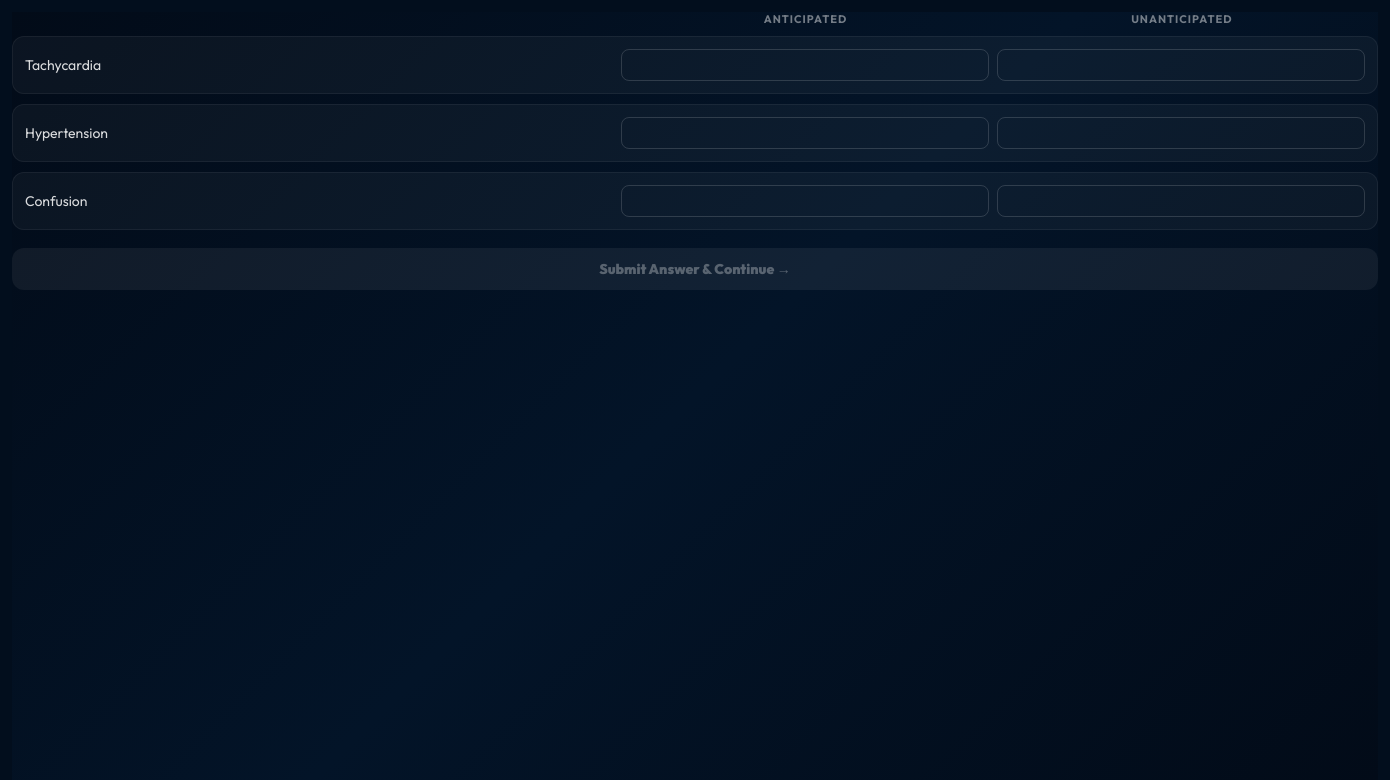
Test: MatrixCard › Submit is disabled until every row is answered
Expected: the button "Submit Answer & Continue →" is disabled, x1=12 y1=248 x2=1378 y2=290
Click the button named "Tachycardia : Unanticipated".
click(1181, 65)  # box x1=997 y1=49 x2=1365 y2=81
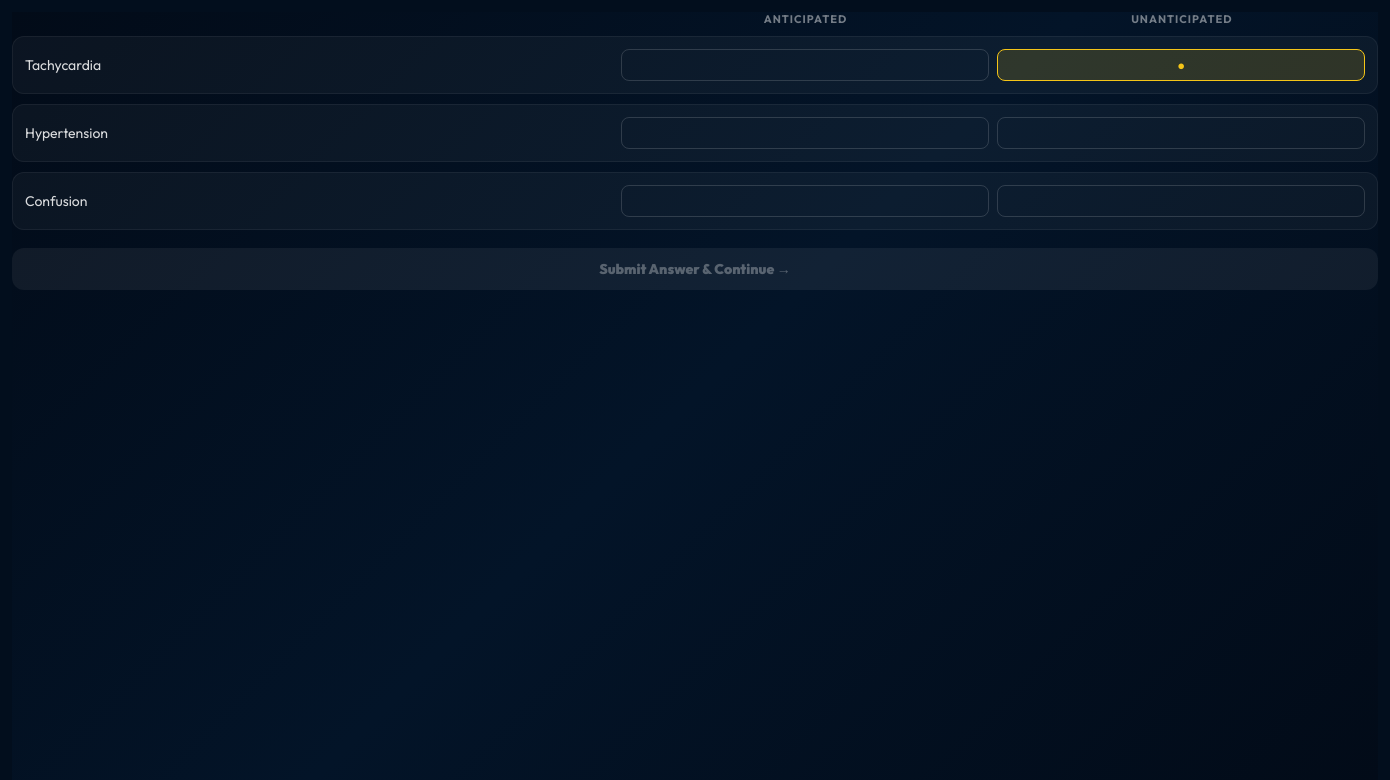
Click the button named "Hypertension : Anticipated".
click(805, 133)  # box x1=621 y1=117 x2=989 y2=149
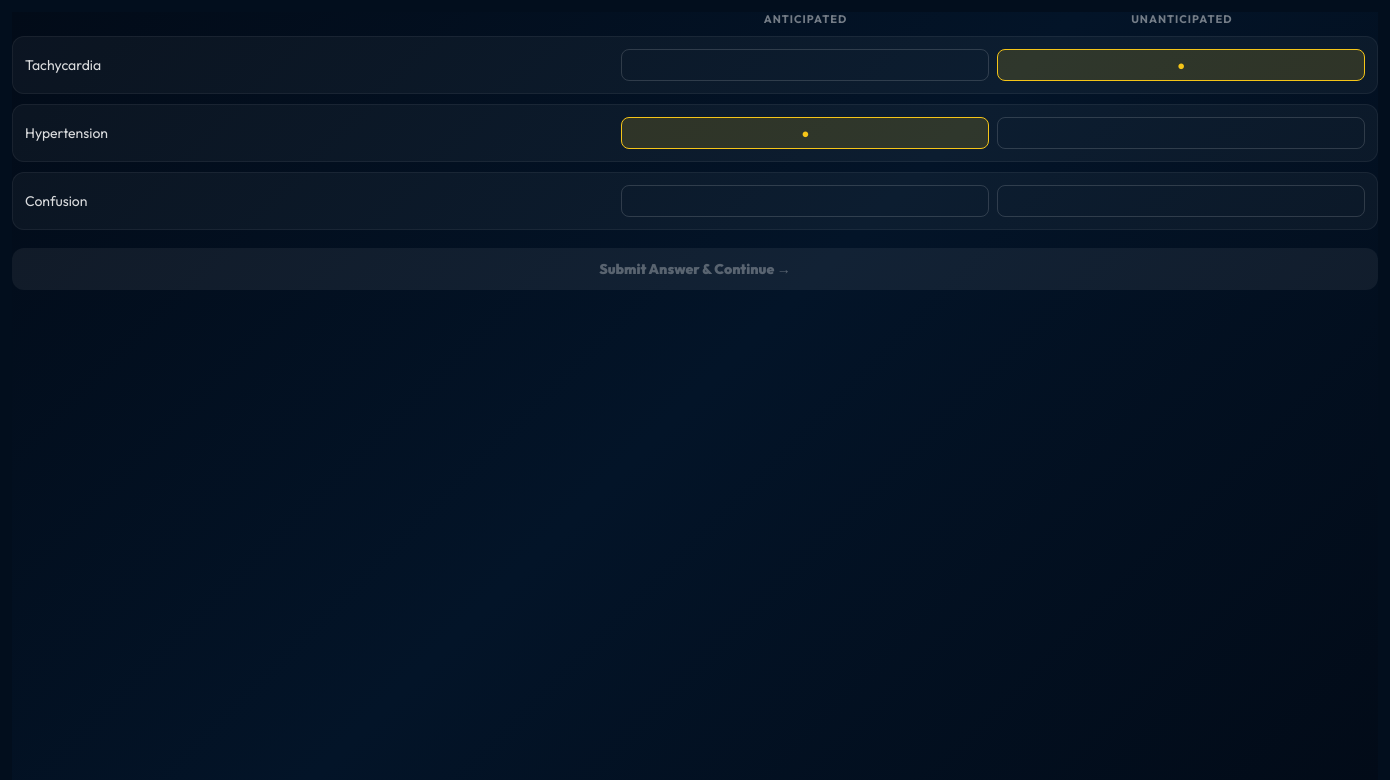
Expected: the button "Submit Answer & Continue →" is disabled, x1=12 y1=248 x2=1378 y2=290
Click the button named "Confusion : Unanticipated".
click(1181, 201)  # box x1=997 y1=185 x2=1365 y2=217
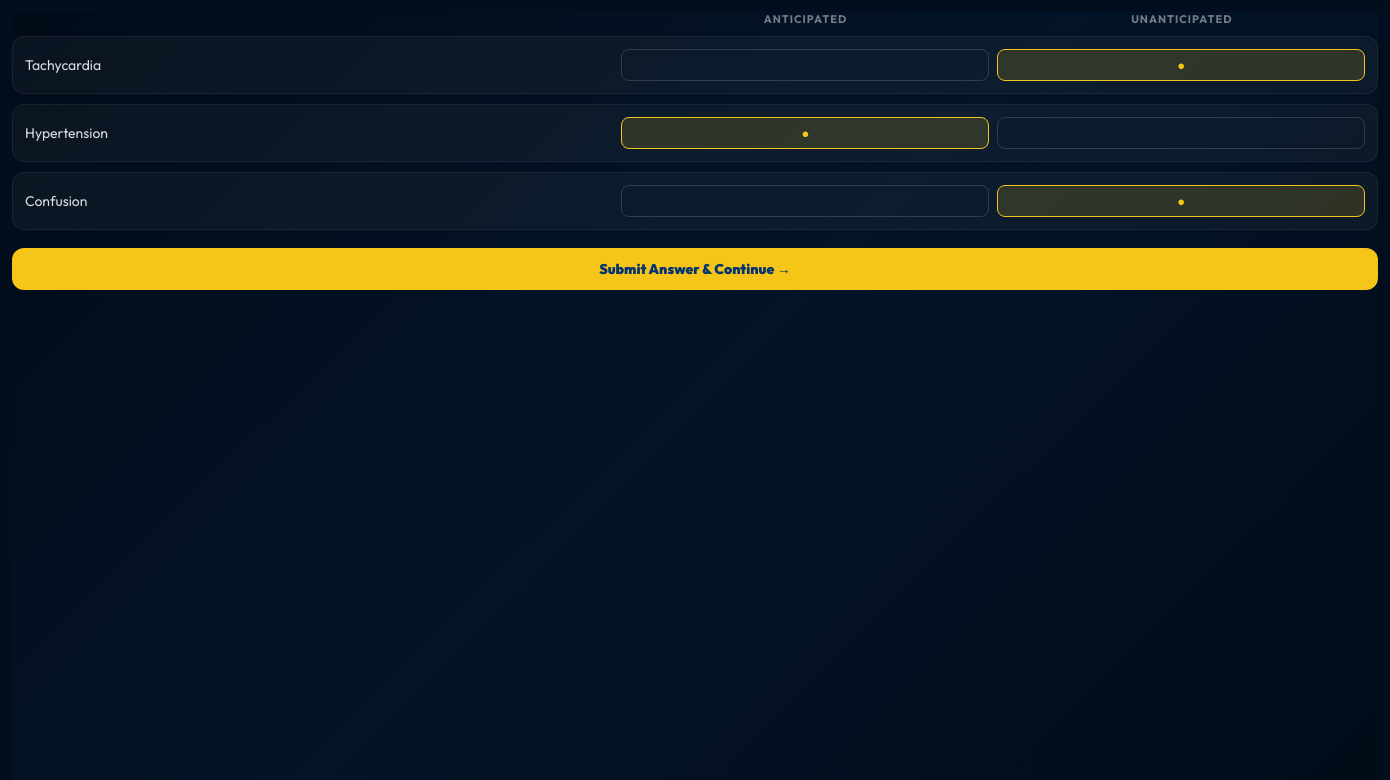
Expected: the button "Submit Answer & Continue →" is enabled, x1=12 y1=248 x2=1378 y2=290
